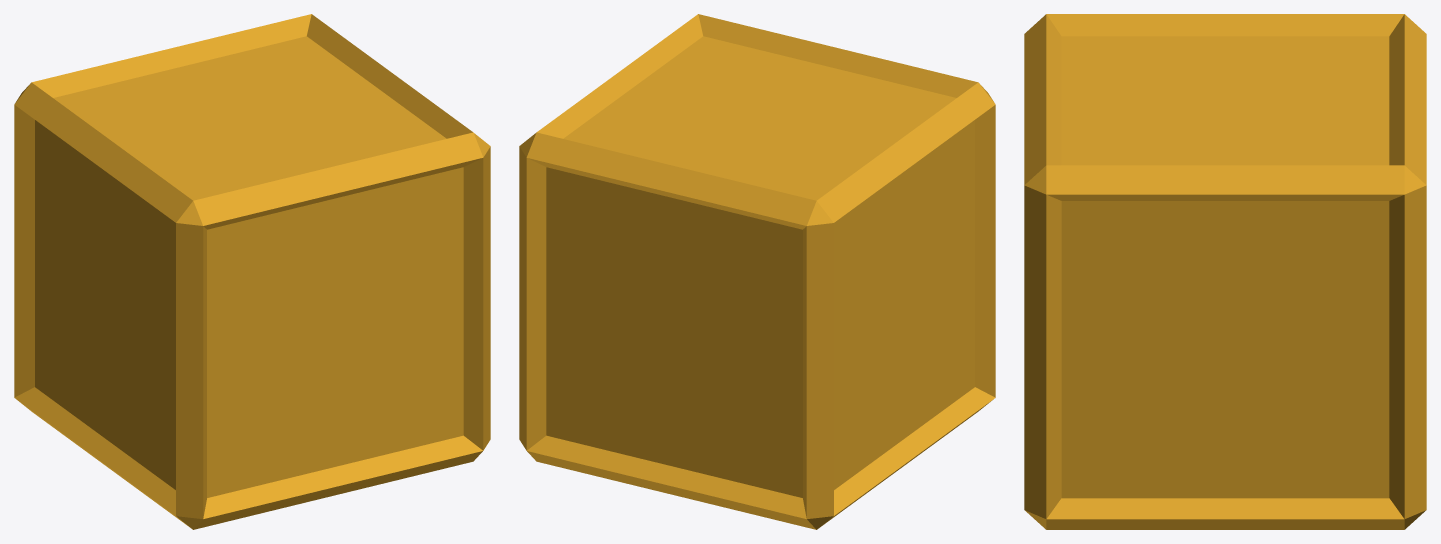
The picture shows the model from 3 angles, left to right: view 1: azimuth 30°, elevation 25°; view 2: azimuth 150°, elevation 25°; view 3: azimuth 270°, elevation 25°; orthographic projection. The views are drawn at different scales.
Visible parts, largest first — view 1: Cube; view 2: Cube; view 3: Cube.
Boxes of the visible parts, x1,y1,x2,y2 form: Cube: (14, 14, 490, 529); Cube: (519, 14, 995, 529); Cube: (1024, 14, 1426, 529).
Bounding box in the file's own units: 2 × 2 × 2.
